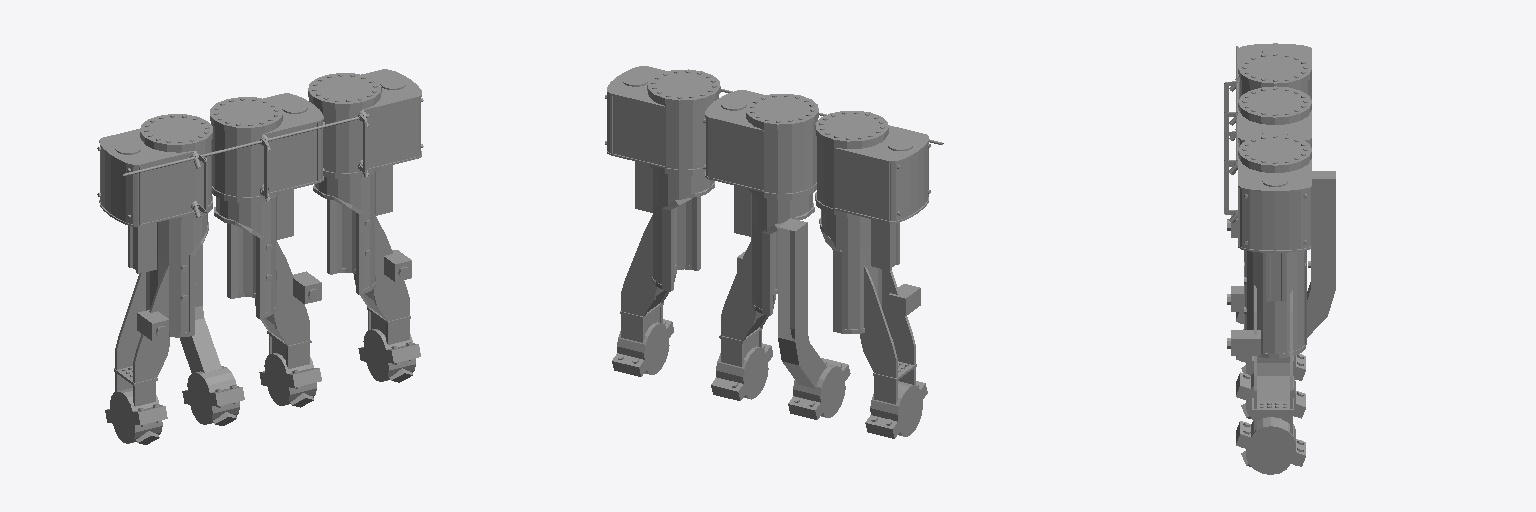
The model's file is cylinders.obj.
The picture shows the model from 3 angles: view 1: azimuth 30°, elevation 25°; view 2: azimuth 150°, elevation 25°; view 3: azimuth 270°, elevation 25°; orthographic projection.
Parts seen in each view (by area): view 1: Cylinder.1413_Cylinder.1730; view 2: Cylinder.1413_Cylinder.1730; view 3: Cylinder.1413_Cylinder.1730.
Boxes of the visible parts, <box> form: Cylinder.1413_Cylinder.1730: <box>97,69,423,444</box>; Cylinder.1413_Cylinder.1730: <box>605,66,943,438</box>; Cylinder.1413_Cylinder.1730: <box>1224,43,1335,474</box>.
Bounding box in the file's own units: 1.39 × 1.29 × 0.4395.